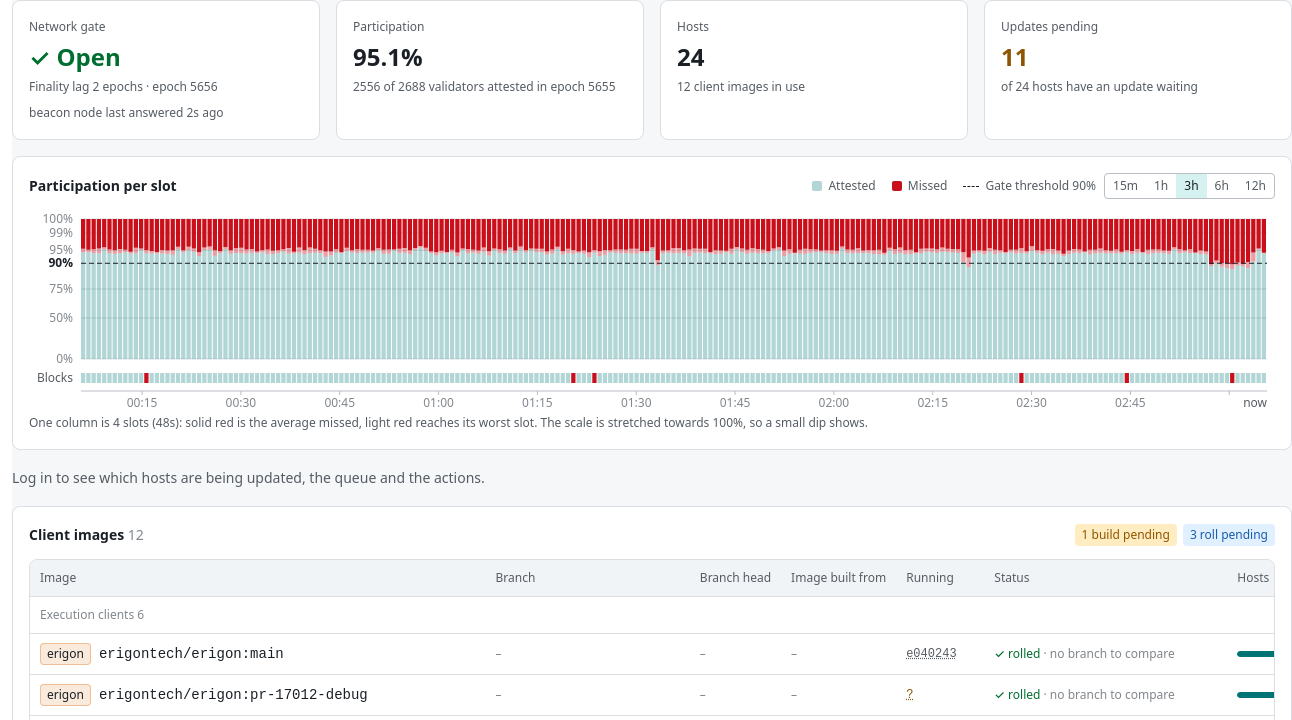
Test: OverviewTab, what happened in a span of the graph › opens a column without a login with the public numbers only
This screenshot has width=1292, height=720.
Click the picture named "Attestations: ".
click(652, 401)  # box [29, 211, 1275, 413]
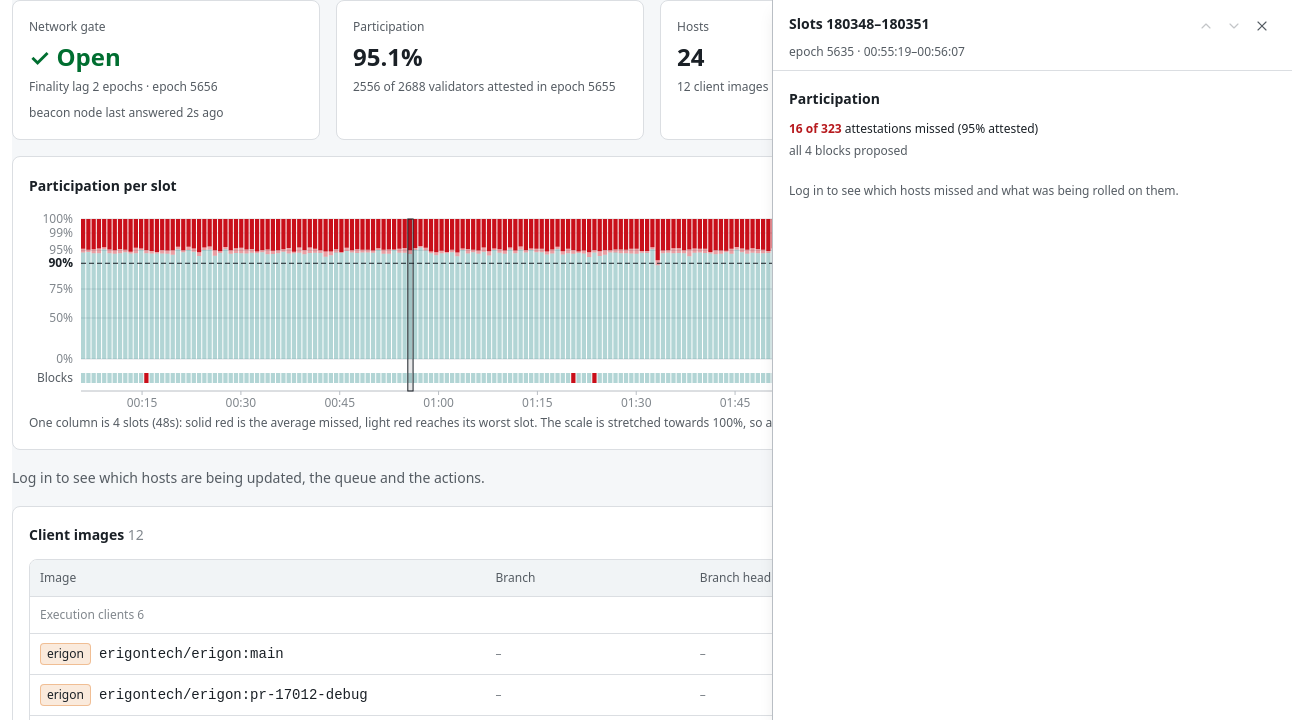
Expected: the element named "What happened: Slots 180348–180351" does not show "What was off, and why", [772, 0, 1291, 719]
Expected: the element named "What happened: Slots 180348–180351" shows "Participation", [789, 89, 880, 108]
Expected: the element named "What happened: Slots 180348–180351" shows "Log in to see which hosts missed and what was being rolled on them.", [789, 182, 1179, 199]
